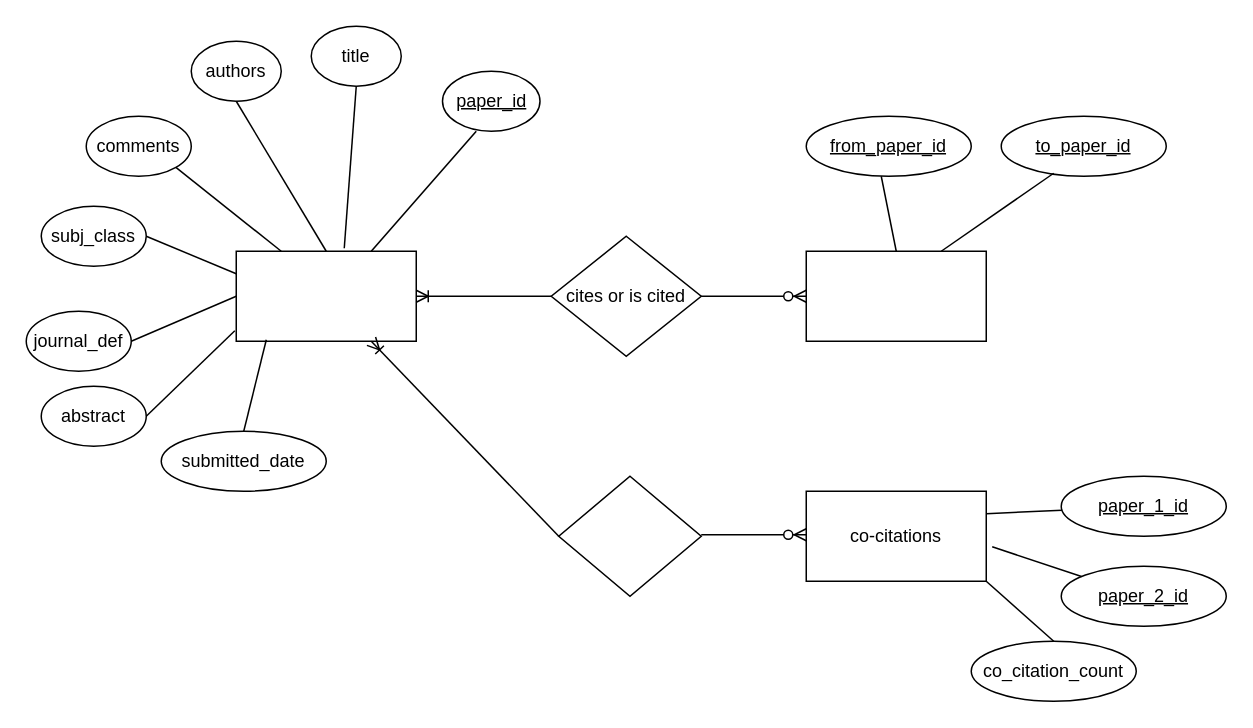
Some shapes in this 1253 by 728 pixel diagram are drawn without their labels. Here are the shapes that lost their labels. From the top down, the box of each, then its label:
(235, 250, 416, 341): papers
(805, 250, 986, 341): citations
(557, 475, 701, 596): are both cited
